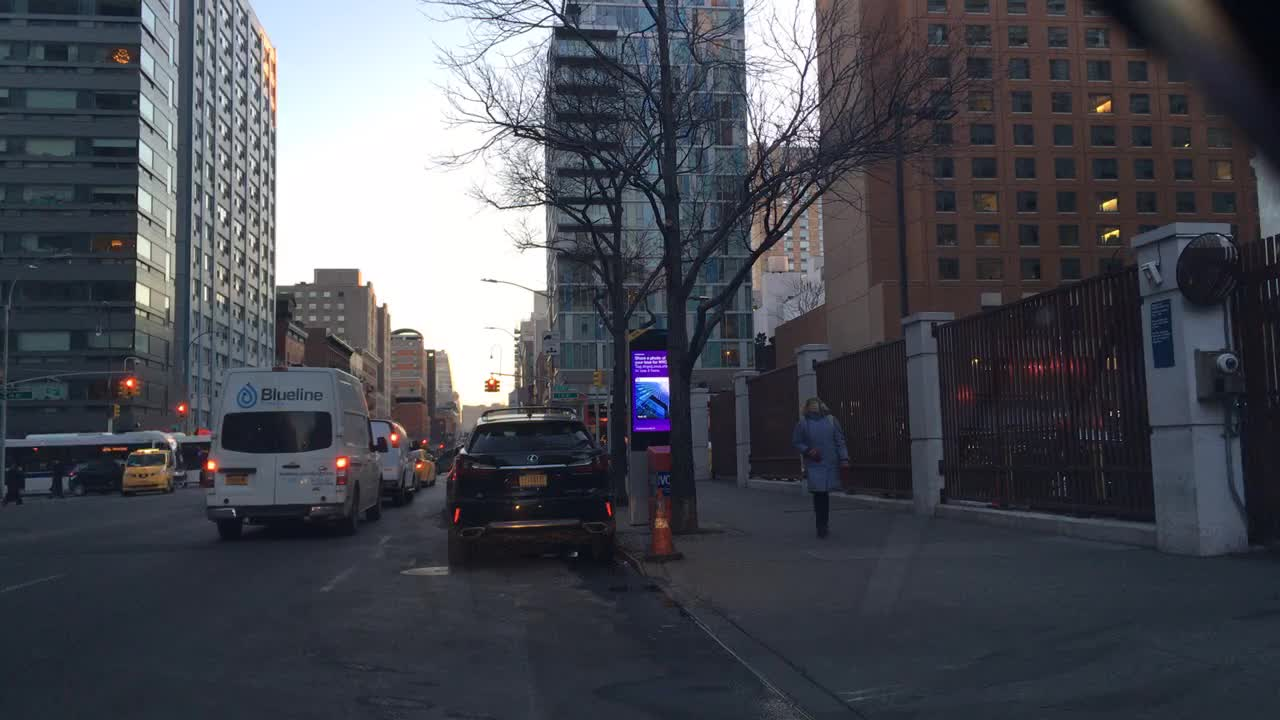bus: (0, 430, 181, 493), (175, 433, 215, 485)
car: (198, 364, 388, 540), (447, 404, 618, 565), (371, 418, 420, 504), (121, 448, 174, 493), (66, 460, 119, 497), (436, 444, 462, 475), (416, 448, 437, 486)
person: (790, 396, 849, 541), (0, 462, 25, 505), (48, 462, 62, 497)
traffic light: (124, 376, 133, 396), (133, 375, 141, 397), (593, 368, 602, 387), (116, 376, 123, 395), (177, 403, 185, 413), (114, 404, 120, 417), (488, 378, 493, 391), (494, 379, 499, 392), (484, 379, 487, 391)
traffic sign: (0, 386, 32, 401), (43, 382, 64, 397), (551, 392, 577, 398), (553, 384, 567, 388)
